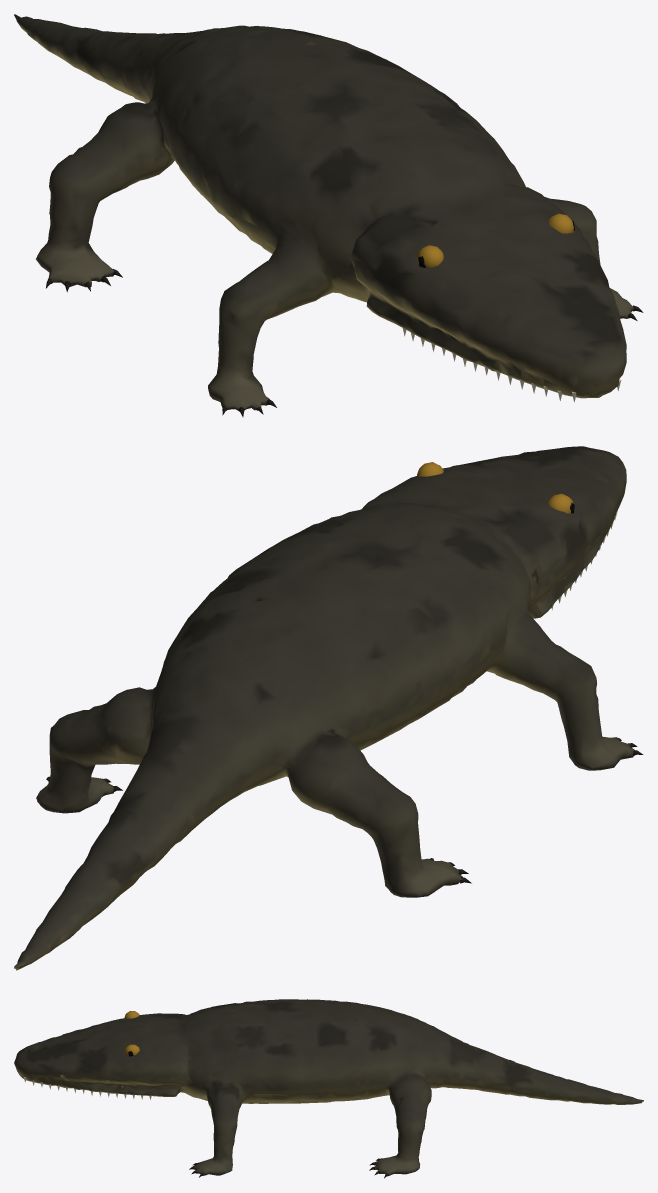
Rendered from Eryops.fbx.
3 renders of one model, top to bottom at view 1: azimuth 30°, elevation 25°; view 2: azimuth 150°, elevation 25°; view 3: azimuth 270°, elevation 25°, orthographic. The views are drawn at different scales.
Parts seen in each view (by area): view 1: Eryops; view 2: Eryops; view 3: Eryops.
Boxes of the visible parts, x1=… form: Eryops: x1=14, y1=14, x2=643, y2=417; Eryops: x1=14, y1=446, x2=643, y2=970; Eryops: x1=14, y1=999, x2=643, y2=1178.
Size of the model in its own units: 0.705 by 0.3439 by 1.7.
